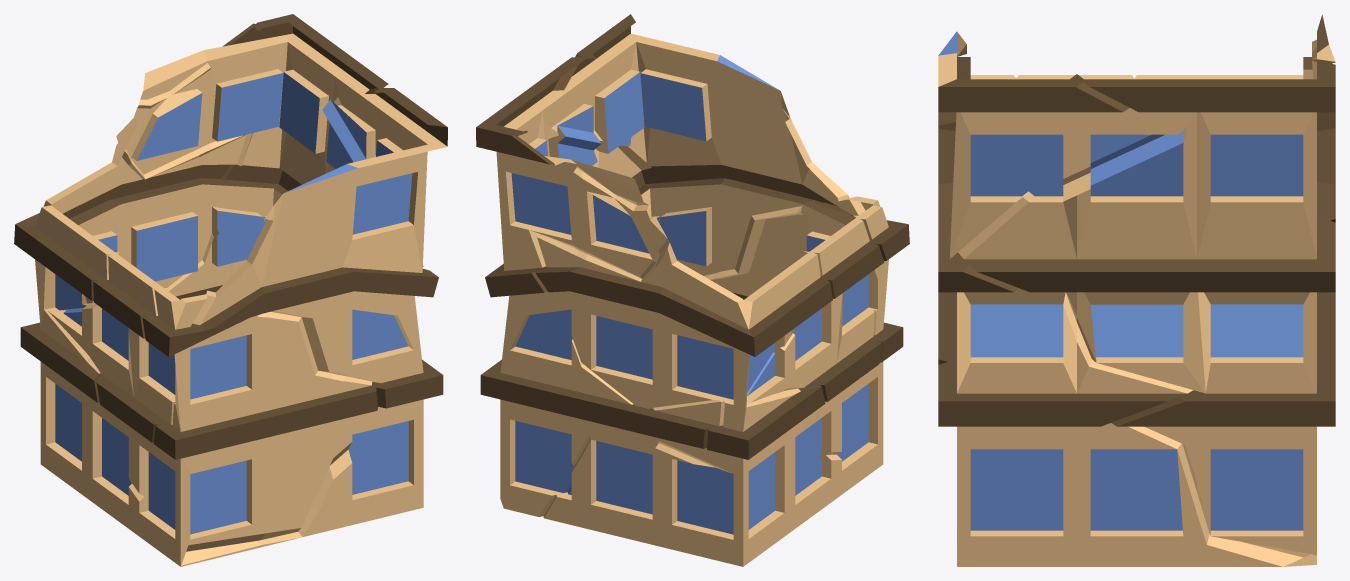
Rendered from NewestBuilding3.fbx.
3 views of the same model, side by side, from view 1: azimuth 30°, elevation 25°; view 2: azimuth 150°, elevation 25°; view 3: azimuth 270°, elevation 25° (orthographic). The views are drawn at different scales.
Visible parts, largest first — view 1: B1.001; view 2: B1.001; view 3: B1.001.
Part boxes in pixels (x1,y1,x2,y2): B1.001: [14, 14, 447, 566]; B1.001: [476, 14, 909, 566]; B1.001: [938, 14, 1335, 566].
Size of the model in its own units: 673 by 881 by 647.
